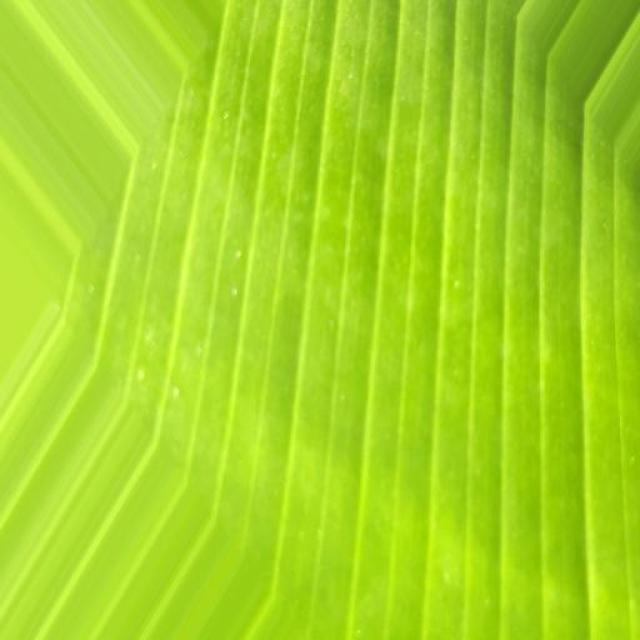Black_leaf_spot: (189, 29, 640, 640)
